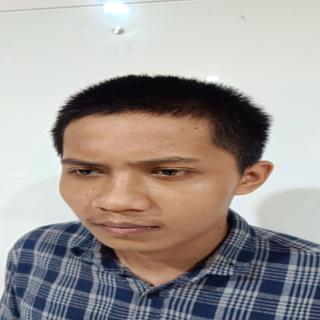Marah: (55, 110, 250, 258)
